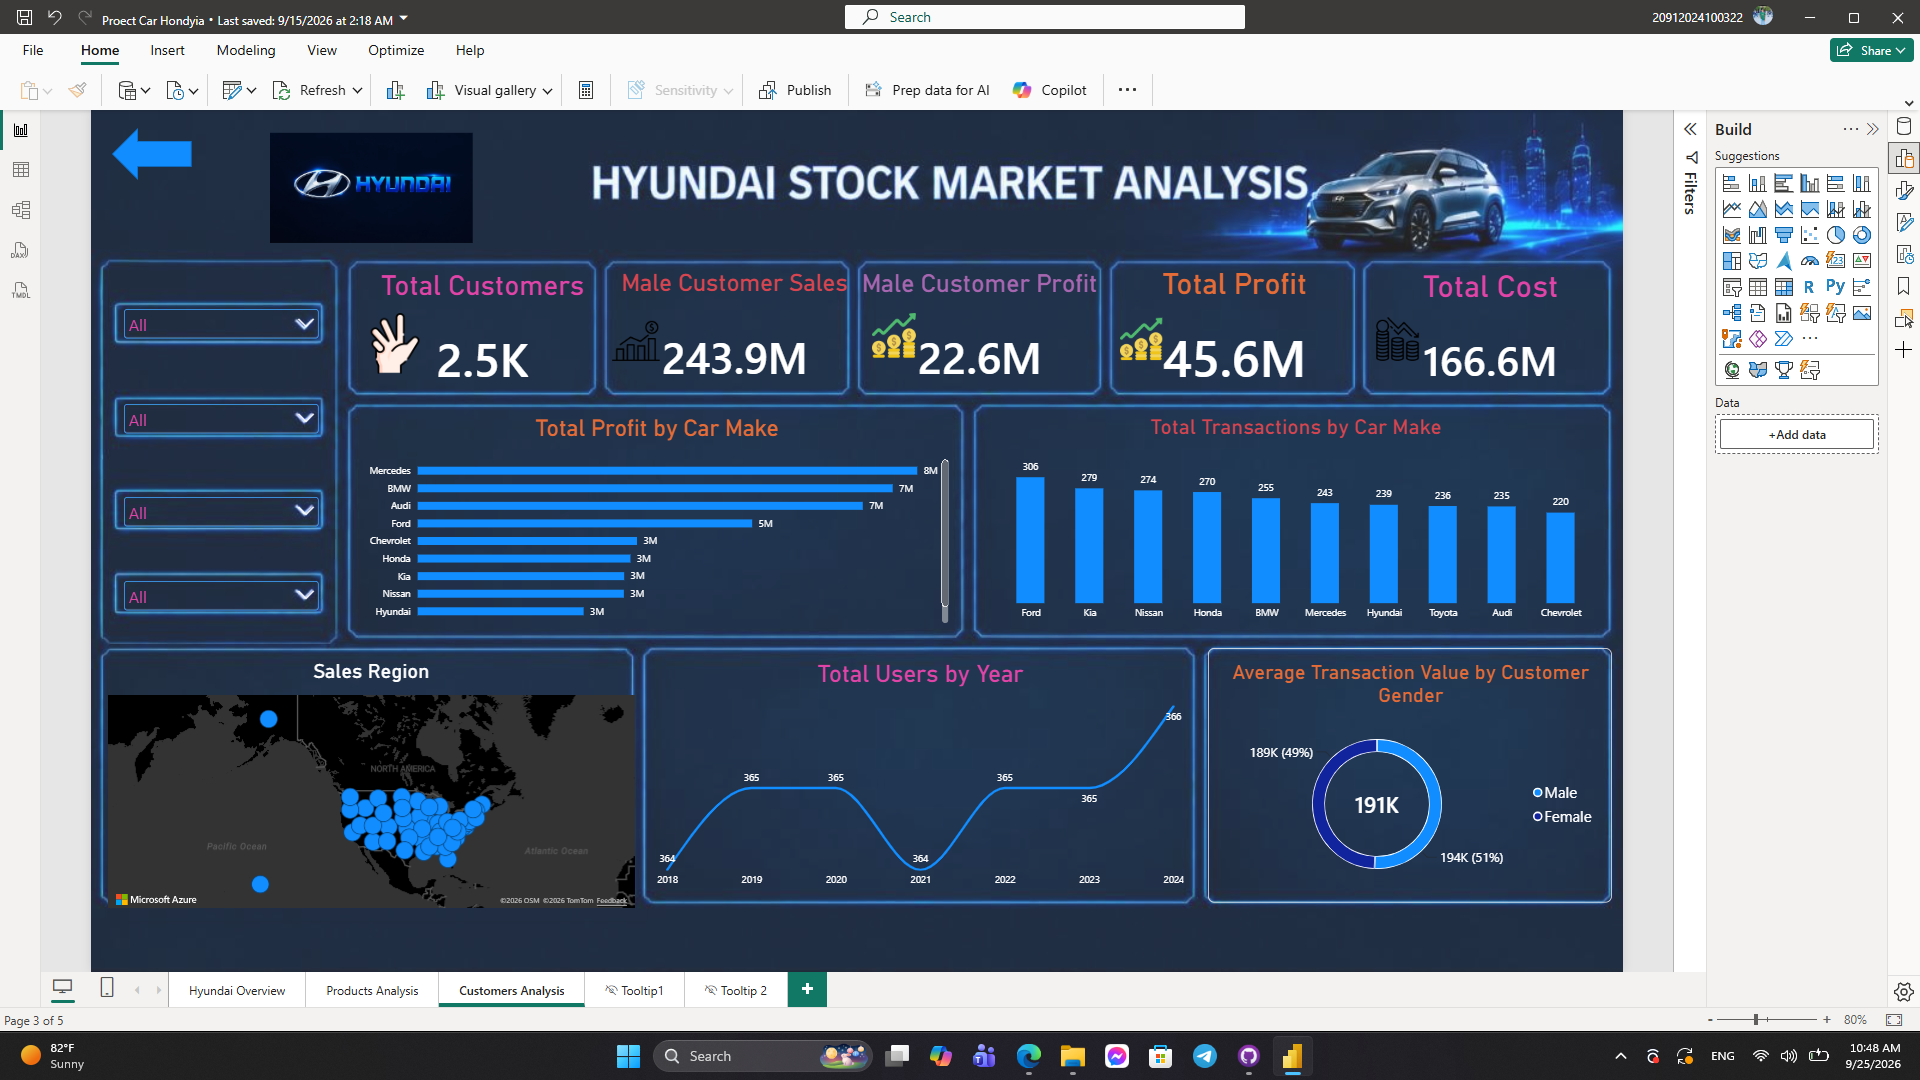

Layout of this report page (visuals, bound fields, positions):
{"tool":"powerbi","page":{"name":"Customers Analysis ","canvas":[1920,1080],"ordinal":2},"visuals":[{"type":"cardVisual","title":"Total Customers ","fields":{"Data":["Key Measure.Total Users"]},"box":[337.1,199.6,307.2,167.6],"z":0},{"type":"cardVisual","title":"Male Customer Sales ","fields":{"Data":["Key Measure.Male Customer Sales"]},"box":[653.1,199.6,307.2,167.6],"z":1},{"type":"cardVisual","title":"Male Customer Profit ","fields":{"Data":["Key Measure.Male Customer Profit"]},"box":[960,199.6,307.2,167.6],"z":2},{"type":"cardVisual","title":"Total Profit ","fields":{"Data":["Key Measure.Total Profit"]},"box":[1279,195,307.2,167.6],"z":3},{"type":"cardVisual","title":"Total Cost ","fields":{"Data":["Key Measure.Total Cost"]},"box":[1599.5,198,307.2,167.6],"z":4},{"type":"slicer","fields":{"Values":["Calendar.Date.Variation.Date Hierarchy.Year"]},"box":[36.3,244.9,254,48.4],"z":5},{"type":"slicer","fields":{"Values":["Calendar.Date.Variation.Date Hierarchy.Month"]},"box":[36.3,362.8,254,48.4],"z":6},{"type":"slicer","fields":{"Values":["car_sales_2018_2024_enhanced.Customer Gender"]},"box":[36.3,479.2,254,48.4],"z":7},{"type":"slicer","fields":{"Values":["car_sales_2018_2024_enhanced.Customer Name"]},"box":[36.3,585.1,254,48.4],"z":8},{"type":"image","box":[223.7,22.7,254,150],"z":9},{"type":"shape","box":[25.7,22.7,99.8,65],"z":10},{"type":"clusteredBarChart","fields":{"Category":["car_sales_2018_2024_enhanced.Car Make"],"Y":["Key Measure.Total Profit"]},"box":[328.1,367.4,762,291.8],"z":11},{"type":"clusteredColumnChart","fields":{"Category":["car_sales_2018_2024_enhanced.Car Make"],"Y":["Key Measure.Total Transactions"]},"box":[1114.2,367.4,792.2,291.8],"z":12},{"type":"azureMap","fields":{"Category":["car_sales_2018_2024_enhanced.Sales Region"]},"box":[4.5,674.3,692.4,341.7],"z":13},{"type":"lineChart","fields":{"Category":["Calendar.Date.Variation.Date Hierarchy.Year"],"Y":["Key Measure.Total Users"]},"box":[692.4,674.3,692.4,319],"z":14},{"type":"donutChart","fields":{"Category":["car_sales_2018_2024_enhanced.Customer Gender"],"Y":["Key Measure.Average Transaction Value"]},"box":[1399.9,674.3,506.5,319],"z":15},{"type":"image","box":[337.1,254,87.7,75.6],"z":16},{"type":"image","box":[653.1,254,60.5,69.5],"z":17},{"type":"image","box":[973.6,254,65,55.9],"z":18},{"type":"image","box":[1289.6,254,52.9,65],"z":19},{"type":"image","box":[1610.1,254,54.4,65],"z":20}]}

Visuals, with their boxes on the page's 1920x1080 design canvas (x1, y1, x2, y2). These are canvas units, not pixel positions in the 1920x1080 screenshot, which may show the page scaled, cropped or inside an application window:
"Total Customers " cardVisual: Rect(337, 200, 644, 367)
"Male Customer Sales " cardVisual: Rect(653, 200, 960, 367)
"Male Customer Profit " cardVisual: Rect(960, 200, 1267, 367)
"Total Profit " cardVisual: Rect(1279, 195, 1586, 363)
"Total Cost " cardVisual: Rect(1600, 198, 1907, 366)
slicer - Calendar.Date.Variation.Date Hierarchy.Year: Rect(36, 245, 290, 293)
slicer - Calendar.Date.Variation.Date Hierarchy.Month: Rect(36, 363, 290, 411)
slicer - car_sales_2018_2024_enhanced.Customer Gender: Rect(36, 479, 290, 528)
slicer - car_sales_2018_2024_enhanced.Customer Name: Rect(36, 585, 290, 634)
image: Rect(224, 23, 478, 173)
shape: Rect(26, 23, 126, 88)
clusteredBarChart - car_sales_2018_2024_enhanced.Car Make x Key Measure.Total Profit: Rect(328, 367, 1090, 659)
clusteredColumnChart - car_sales_2018_2024_enhanced.Car Make x Key Measure.Total Transactions: Rect(1114, 367, 1906, 659)
azureMap - car_sales_2018_2024_enhanced.Sales Region: Rect(4, 674, 697, 1016)
lineChart - Calendar.Date.Variation.Date Hierarchy.Year x Key Measure.Total Users: Rect(692, 674, 1385, 993)
donutChart - car_sales_2018_2024_enhanced.Customer Gender x Key Measure.Average Transaction Value: Rect(1400, 674, 1906, 993)
image: Rect(337, 254, 425, 330)
image: Rect(653, 254, 714, 324)
image: Rect(974, 254, 1039, 310)
image: Rect(1290, 254, 1342, 319)
image: Rect(1610, 254, 1664, 319)
